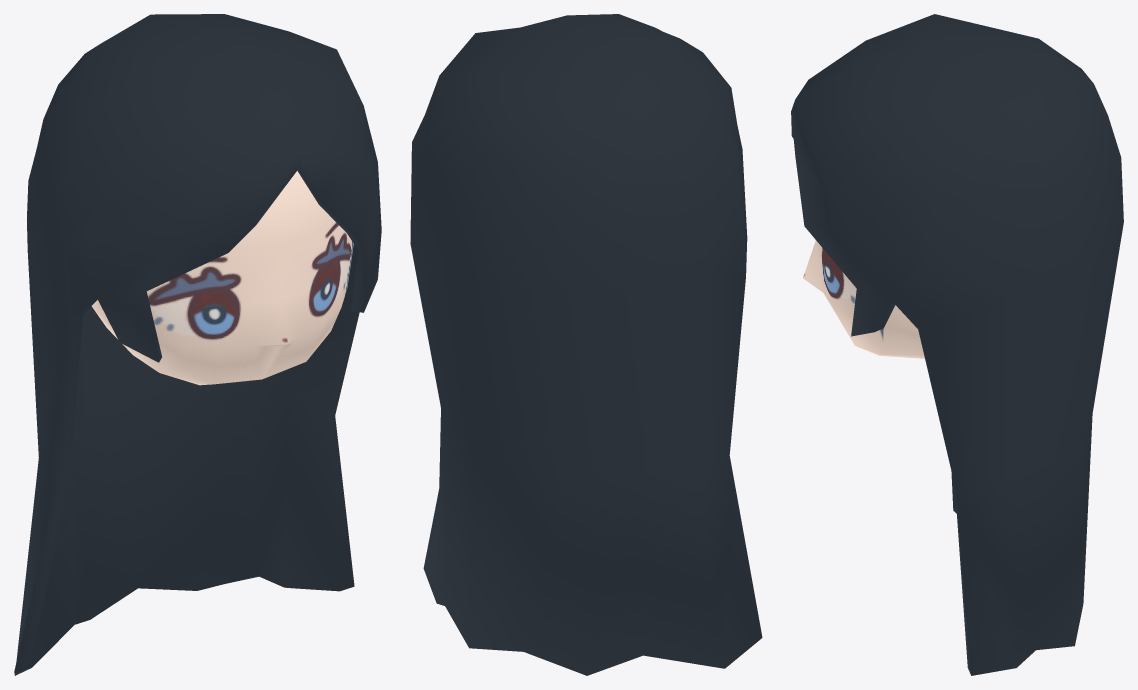
File: head.glb
The picture shows the model from 3 angles, left to right: view 1: azimuth 30°, elevation 25°; view 2: azimuth 150°, elevation 25°; view 3: azimuth 270°, elevation 25°; orthographic projection. The views are drawn at different scales.
Visible parts, largest first — view 1: Cube.023, Cube.022; view 2: Cube.023; view 3: Cube.023, Cube.022.
Boxes of the visible parts, x1,y1,x2,y2 form: Cube.023: (14, 14, 381, 675); Cube.022: (92, 171, 353, 385); Cube.023: (410, 14, 762, 675); Cube.023: (791, 14, 1123, 675); Cube.022: (803, 240, 924, 358).
Size of the model in its own units: 1.34 by 2.26 by 1.17.
2 materials, 1 textured.
